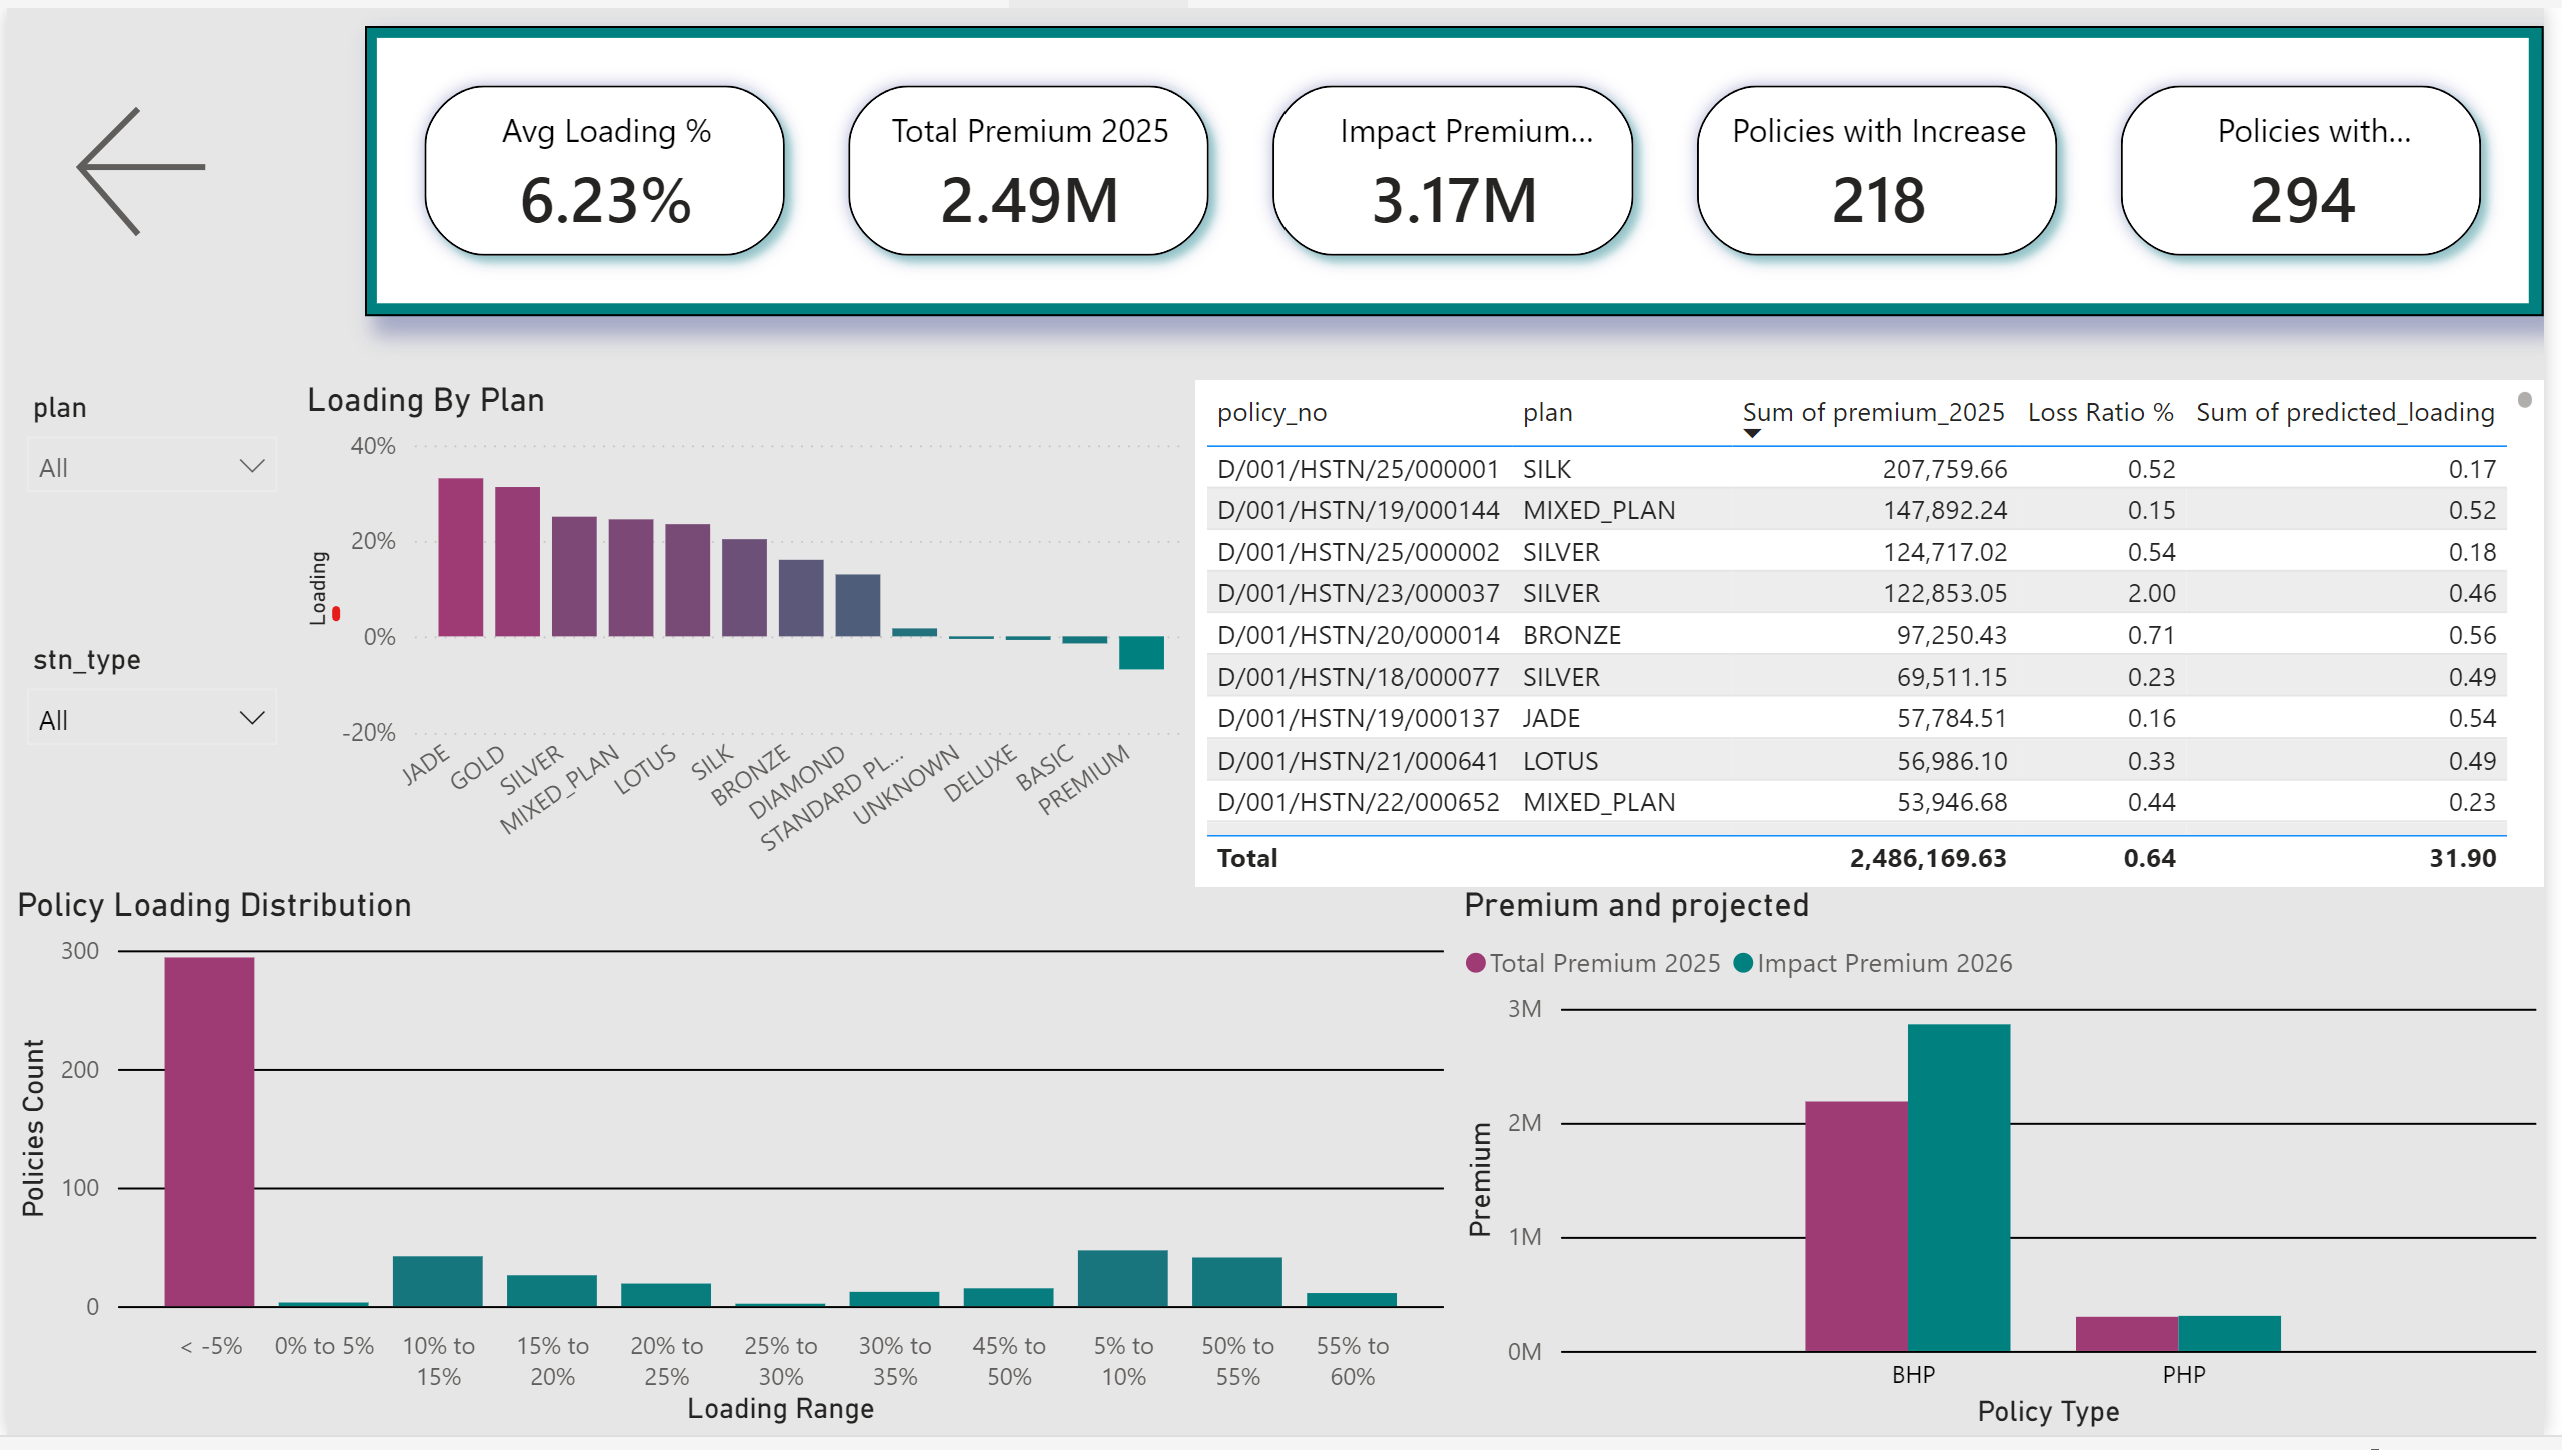

The dashboard page shown, as its layout file describes it:
{"tool":"powerbi","page":{"name":"Renewal","canvas":[1280,720],"ordinal":2},"visuals":[{"type":"columnChart","title":"Policy Loading Distribution","fields":{"Category":["Policy_data.Loading Bin","Policy_data.Loading Bin Sort"],"Y":["Calculate_data.Policy Count"]},"box":[0,442.8,730.2,277.1],"z":0},{"type":"tableEx","fields":{"Values":["Policy_data.policy_no","Policy_data.plan","Sum(Policy_data.premium_2025)","Calculate_data.Loss Ratio %","Sum(Policy_data.predicted_loading)"]},"box":[599.7,187.7,680.3,255.1],"z":1000},{"type":"clusteredColumnChart","title":"Premium and projected","fields":{"Y":["Calculate_data.Total Premium 2025","Calculate_data.Impact Premium 2026"],"Category":["Policy_data.stn_type"]},"box":[730.2,442.8,551.3,278.6],"z":2000},{"type":"clusteredColumnChart","title":"Loading By Plan","fields":{"Category":["Policy_data.plan"],"Y":["Calculate_data.Avg Loading %"]},"box":[146.6,187.7,454.5,253.7],"z":3000},{"type":"slicer","fields":{"Values":["Policy_data.stn_type"]},"box":[0,315.2,146.6,83.6],"z":4000},{"type":"slicer","fields":{"Values":["Policy_data.plan"]},"box":[0,187.7,146.6,82.1],"z":5000},{"type":"actionButton","box":[28.2,42.3,90.2,80.4],"z":6000},{"type":"cardVisual","fields":{"Data":["Calculate_data.Avg Loading %","Calculate_data.Total Premium 2025","Calculate_data.Impact Premium 2026","Calculate_data.Policies with Increase","Calculate_data.Policies with Decrease"]},"box":[180.3,8.8,1099.7,146.6],"z":7000}]}

Visuals, with their boxes in screenshot pixels (x1, y1, x2, y2), scaled from the page's 1280x720 canvas onto the 2562x1450 screenshot:
"Policy Loading Distribution" columnChart: locate(0, 892, 1462, 1449)
tableEx - Policy_data.policy_no x Policy_data.plan: locate(1200, 378, 2561, 892)
"Premium and projected" clusteredColumnChart: locate(1462, 892, 2561, 1449)
"Loading By Plan" clusteredColumnChart: locate(293, 378, 1203, 889)
slicer - Policy_data.stn_type: locate(0, 635, 293, 803)
slicer - Policy_data.plan: locate(0, 378, 293, 543)
actionButton: locate(56, 85, 237, 247)
cardVisual - Calculate_data.Avg Loading % x Calculate_data.Total Premium 2025: locate(361, 18, 2561, 313)
